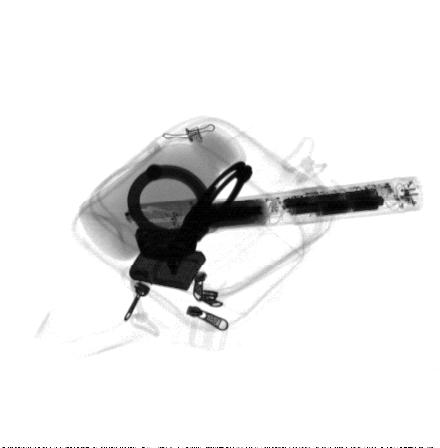Baton: (124, 175, 423, 237)
HandCuffs: (125, 161, 253, 277)
Lighter: (130, 241, 208, 290)
